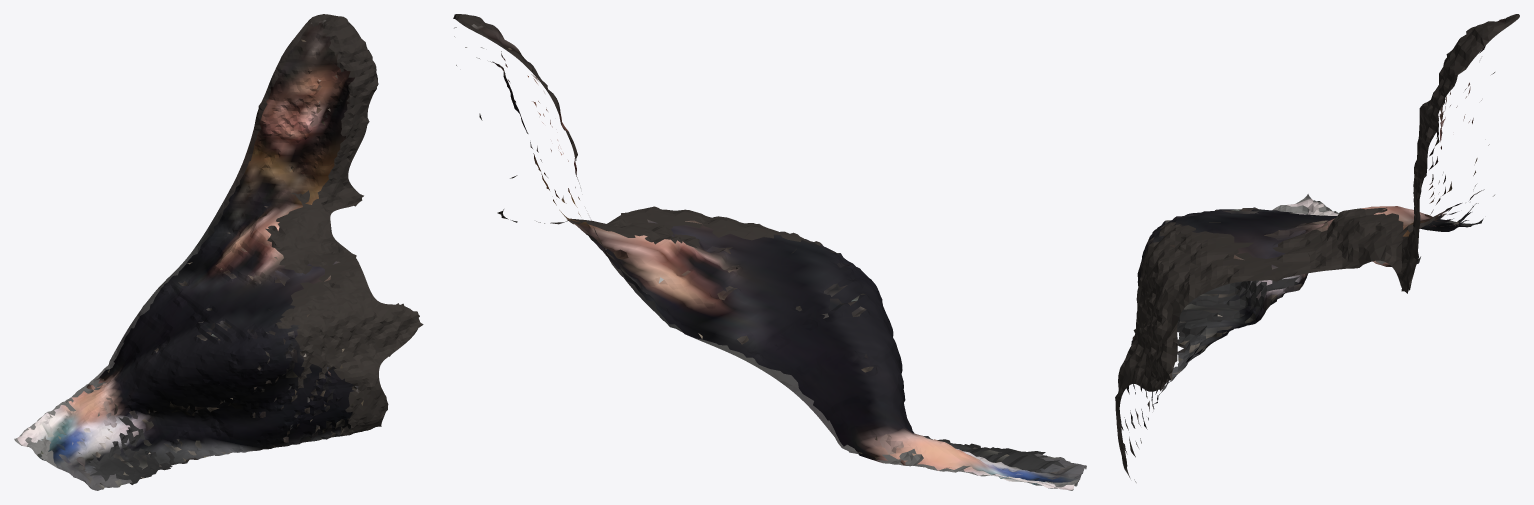
The picture shows the model from 3 angles, left to right: view 1: azimuth 30°, elevation 25°; view 2: azimuth 150°, elevation 25°; view 3: azimuth 270°, elevation 25°; orthographic projection. The views are drawn at different scales.
Bounding box in the file's own units: 0.844 × 0.6303 × 0.4474.
1 material, 1 textured.
